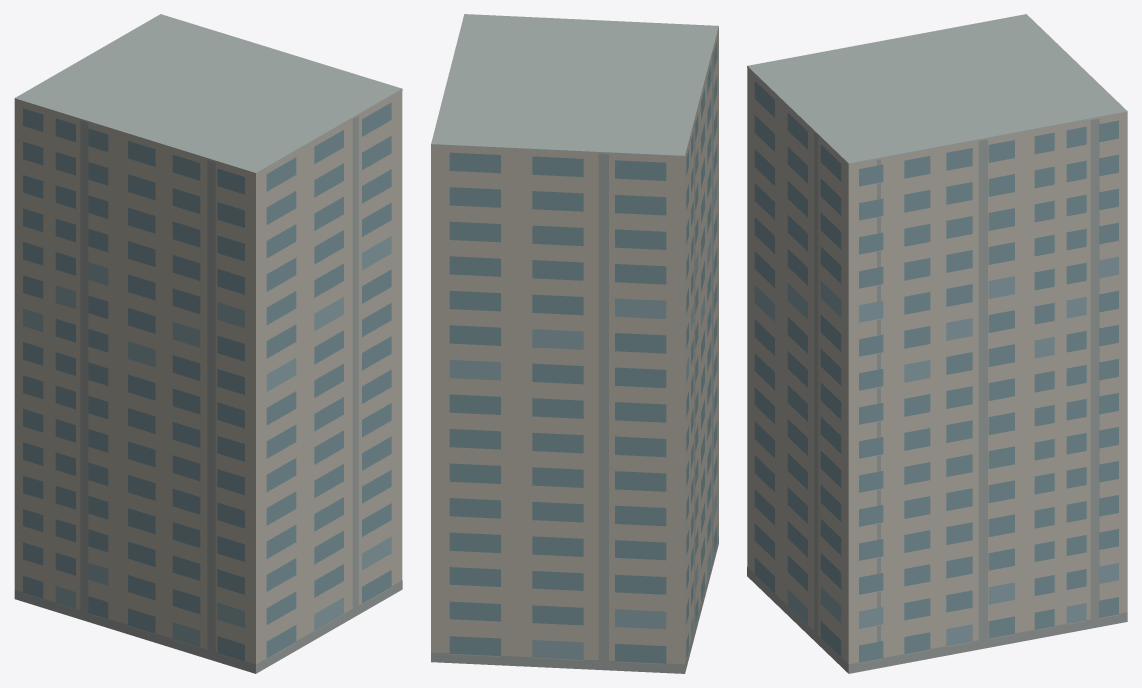
Rendered from residential-7ddfbaf9-40d1-4898-a6c2-37561fe5d694.glb.
3 renders of one model, left to right at view 1: azimuth 30°, elevation 25°; view 2: azimuth 150°, elevation 25°; view 3: azimuth 270°, elevation 25°, orthographic. The views are drawn at different scales.
Visible parts, largest first — view 1: residential-7ddfbaf9-40d1-4898-a6c2-37561fe5d694.tmp; view 2: residential-7ddfbaf9-40d1-4898-a6c2-37561fe5d694.tmp; view 3: residential-7ddfbaf9-40d1-4898-a6c2-37561fe5d694.tmp.
Part boxes in pixels (box(x1,y1,x2,y2)): residential-7ddfbaf9-40d1-4898-a6c2-37561fe5d694.tmp: box(14, 14, 402, 673); residential-7ddfbaf9-40d1-4898-a6c2-37561fe5d694.tmp: box(431, 14, 718, 673); residential-7ddfbaf9-40d1-4898-a6c2-37561fe5d694.tmp: box(747, 14, 1127, 673).
Size of the model in its own units: 40.85 by 65 by 43.94.
